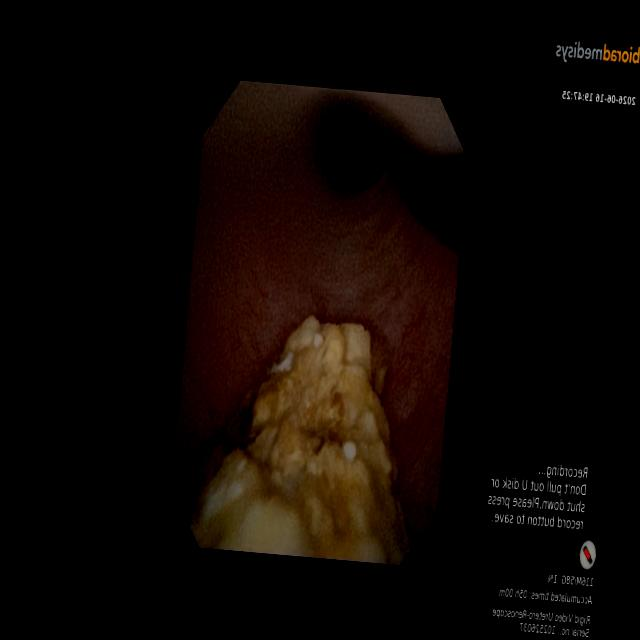stone-new: (188, 316, 408, 562)
